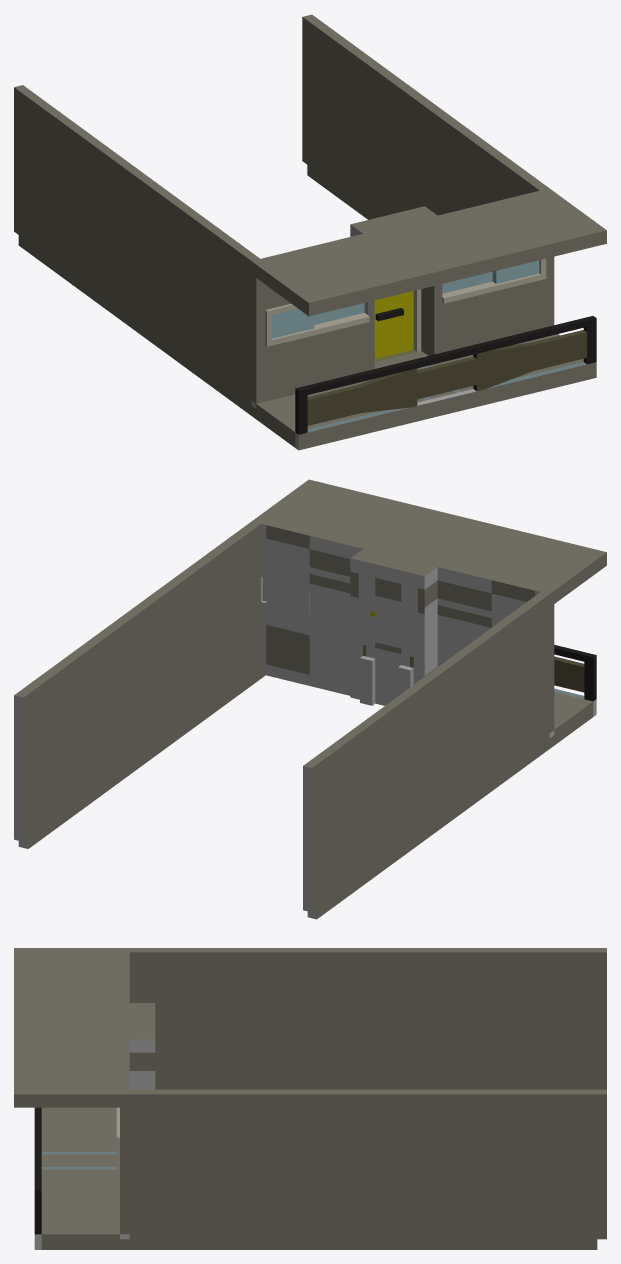
File: HallwayStartEnd.fbx
3 renders of one model, top to bottom at view 1: azimuth 30°, elevation 25°; view 2: azimuth 150°, elevation 25°; view 3: azimuth 270°, elevation 25°, orthographic.
Parts seen in each view (by area): view 1: pCube1; view 2: pCube1; view 3: pCube1.
Boxes of the visible parts, bbox=[...] form: pCube1: bbox=[14, 14, 606, 450]; pCube1: bbox=[14, 479, 606, 919]; pCube1: bbox=[14, 948, 606, 1249].
Size of the model in its own units: 8.87 by 4.4 by 15.19.
